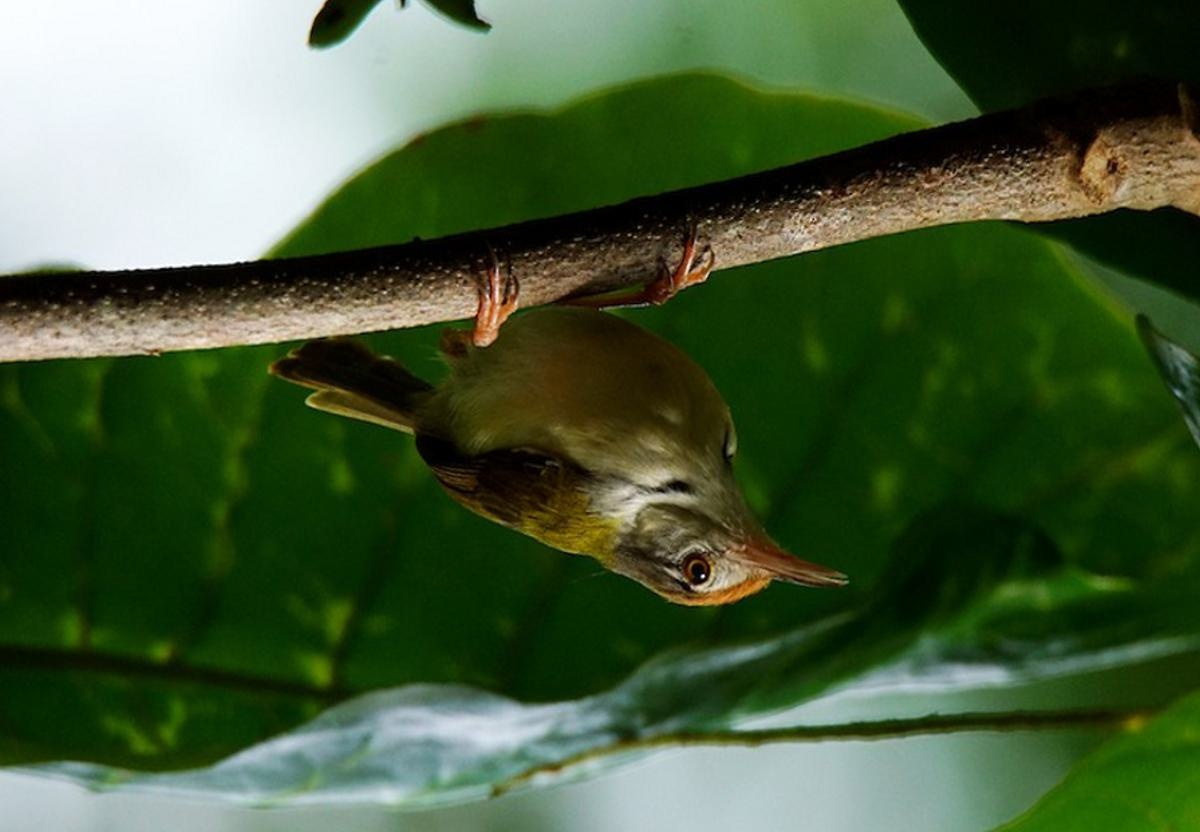tailorbird: (284, 268, 870, 646)
